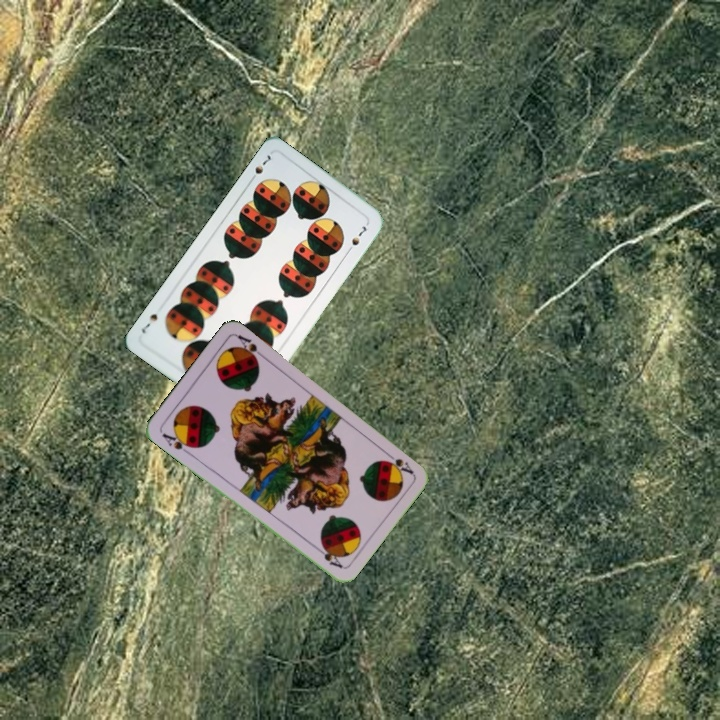S7: (245, 151, 274, 185)
SA: (158, 428, 196, 457), (380, 448, 416, 477)
